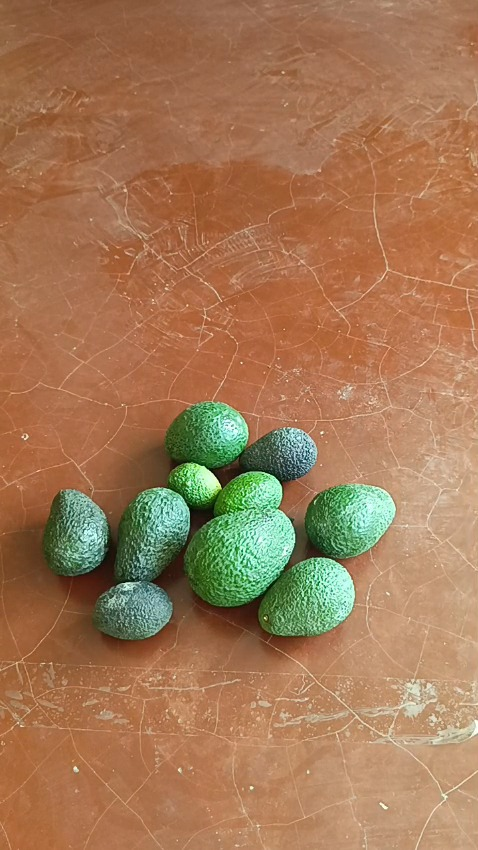Primera: (184, 507, 296, 605)
Segunda: (258, 557, 355, 636), (113, 486, 191, 583), (303, 483, 396, 557), (41, 488, 110, 577), (164, 401, 247, 467)
Tercera: (92, 579, 174, 640), (240, 426, 318, 482), (213, 471, 282, 517), (167, 461, 221, 510)
